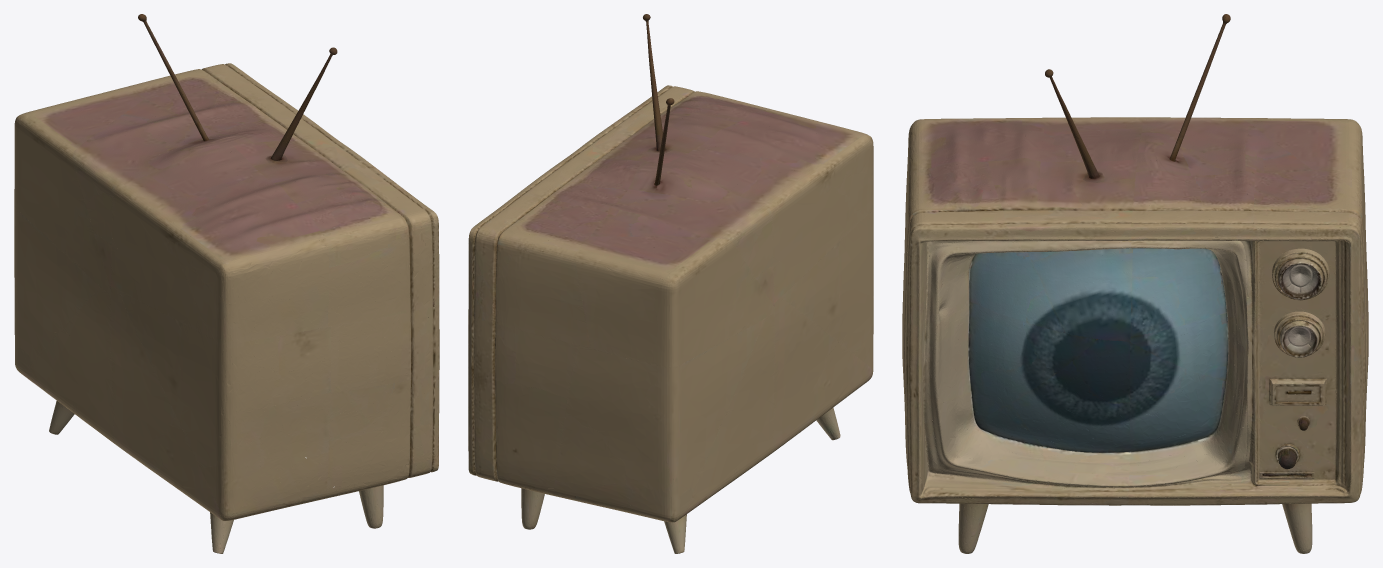
File: retrotv.glb
The picture shows the model from 3 angles, left to right: view 1: azimuth 30°, elevation 25°; view 2: azimuth 150°, elevation 25°; view 3: azimuth 270°, elevation 25°; orthographic projection. The views are drawn at different scales.
Visible parts, largest first — view 1: tripo_node_42472b54-ac80-4a06-947c-46b519e3cf2b; view 2: tripo_node_42472b54-ac80-4a06-947c-46b519e3cf2b; view 3: tripo_node_42472b54-ac80-4a06-947c-46b519e3cf2b.
Part boxes in pixels (left/top/right/bottom): tripo_node_42472b54-ac80-4a06-947c-46b519e3cf2b: left=14, top=14, right=439, bottom=553; tripo_node_42472b54-ac80-4a06-947c-46b519e3cf2b: left=468, top=14, right=873, bottom=553; tripo_node_42472b54-ac80-4a06-947c-46b519e3cf2b: left=902, top=14, right=1368, bottom=553.
Size of the model in its own units: 0.5043 by 0.9775 by 0.8608.
Materials: 1 (1 with a texture image).
